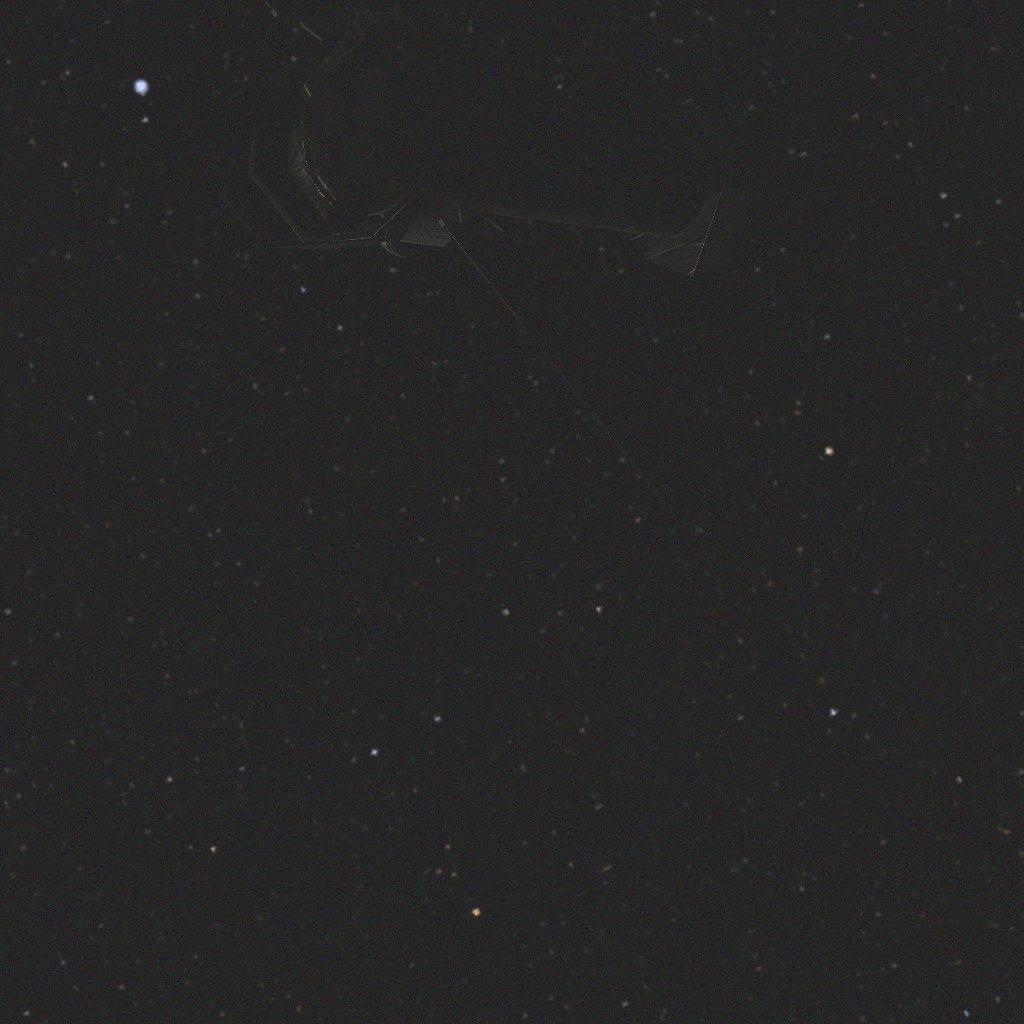xmm_newton: (203, 0, 767, 519)
